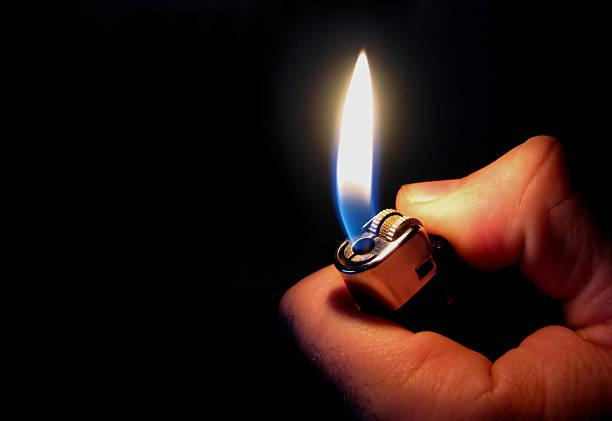Fire: (333, 44, 380, 248)
